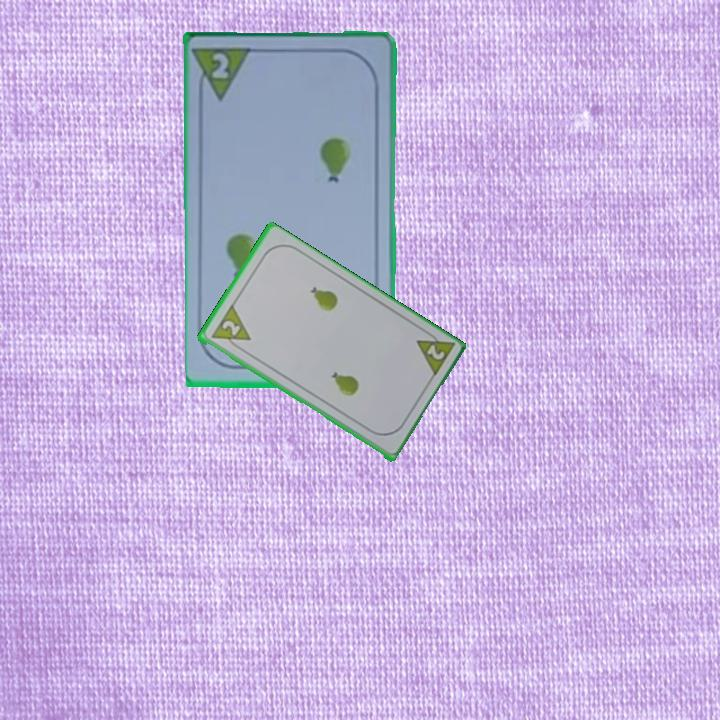2p: (412, 325, 457, 381), (206, 303, 253, 354), (208, 49, 232, 82)
